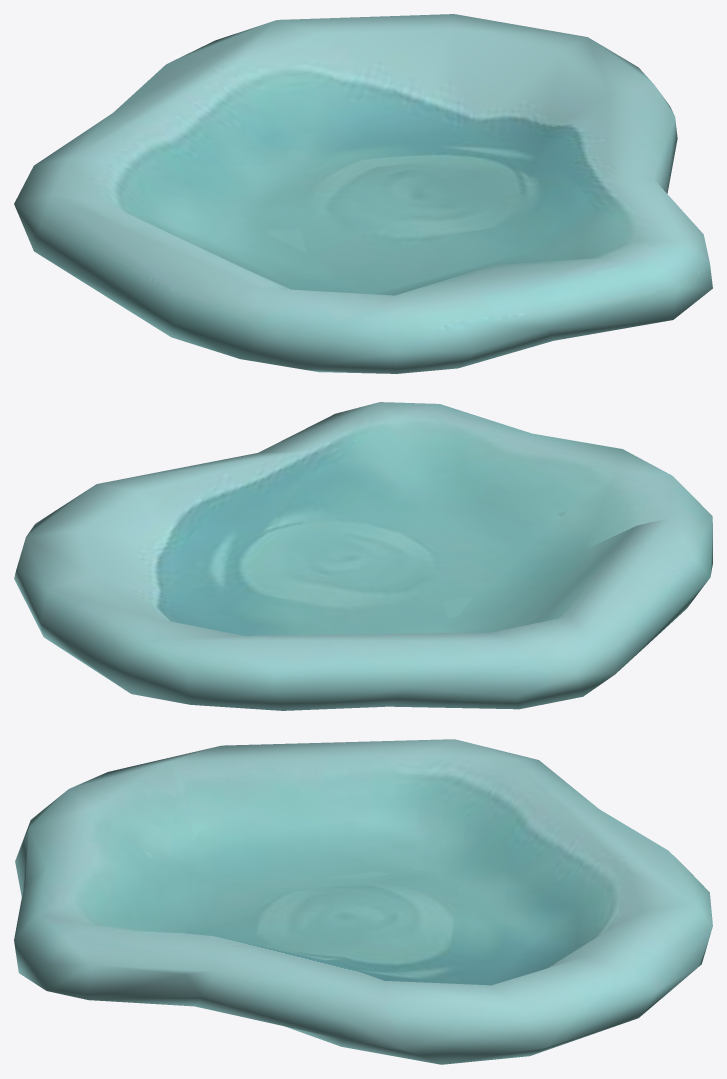
The model's file is puddle.glb.
The picture shows the model from 3 angles, top to bottom: view 1: azimuth 30°, elevation 25°; view 2: azimuth 150°, elevation 25°; view 3: azimuth 270°, elevation 25°; orthographic projection. The views are drawn at different scales.
Parts seen in each view (by area): view 1: ЦІЛЬ; view 2: ЦІЛЬ; view 3: ЦІЛЬ.
Part boxes in pixels (box(x1,y1,x2,y2)): ЦІЛЬ: box(14, 14, 712, 373); ЦІЛЬ: box(14, 402, 712, 710); ЦІЛЬ: box(14, 739, 712, 1064).
Size of the model in its own units: 0.7988 by 0.117 by 0.82.
Materials: 1 (1 with a texture image).
